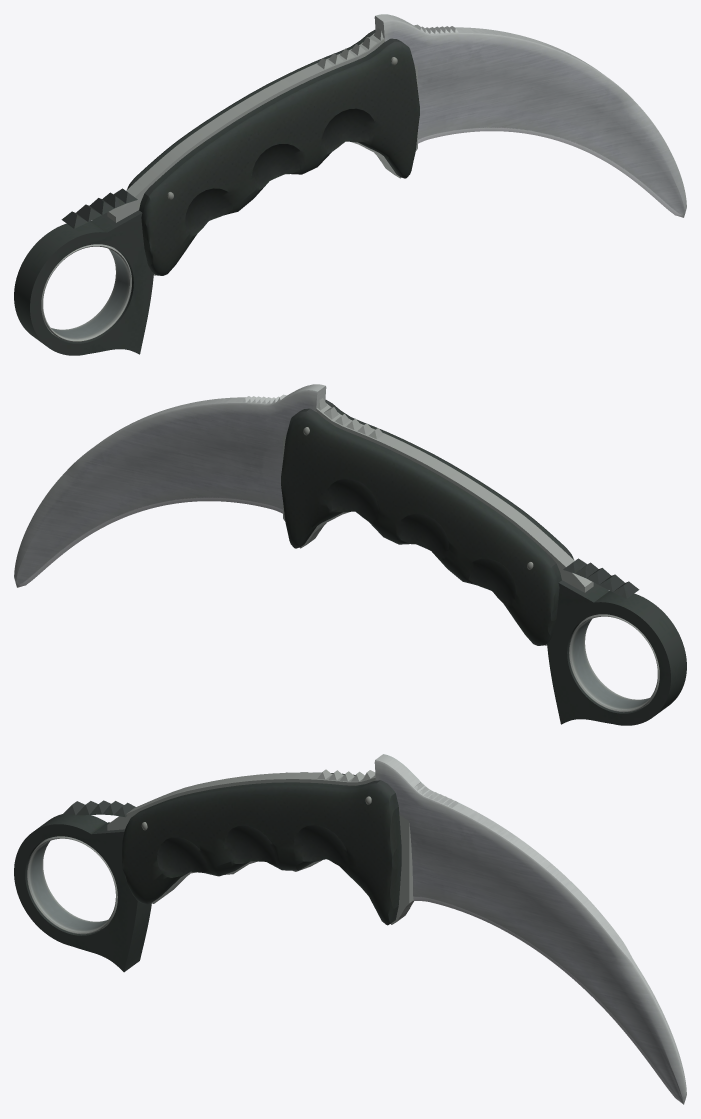
The model's file is karambit.glb.
3 views of the same model, one above another, from view 1: azimuth 30°, elevation 25°; view 2: azimuth 150°, elevation 25°; view 3: azimuth 330°, elevation 25° (orthographic).
Visible parts, largest first — view 1: body; view 2: body; view 3: body.
Boxes of the visible parts, x1=… form: body: x1=14, y1=14, x2=686, y2=355; body: x1=14, y1=384, x2=686, y2=725; body: x1=14, y1=754, x2=686, y2=1104.
Size of the model in its own units: 0.1778 by 0.07 by 0.013.
5 materials, 5 textured.
